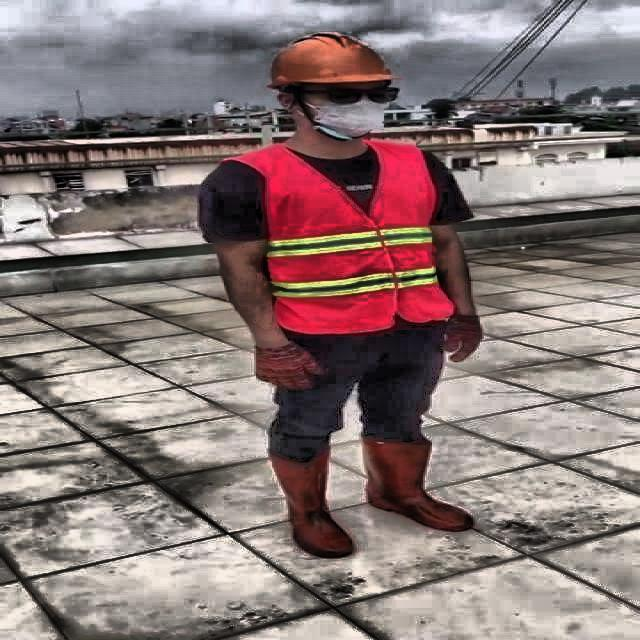safety_helmet: (260, 30, 396, 89)
safety_jacket: (262, 147, 454, 334)
